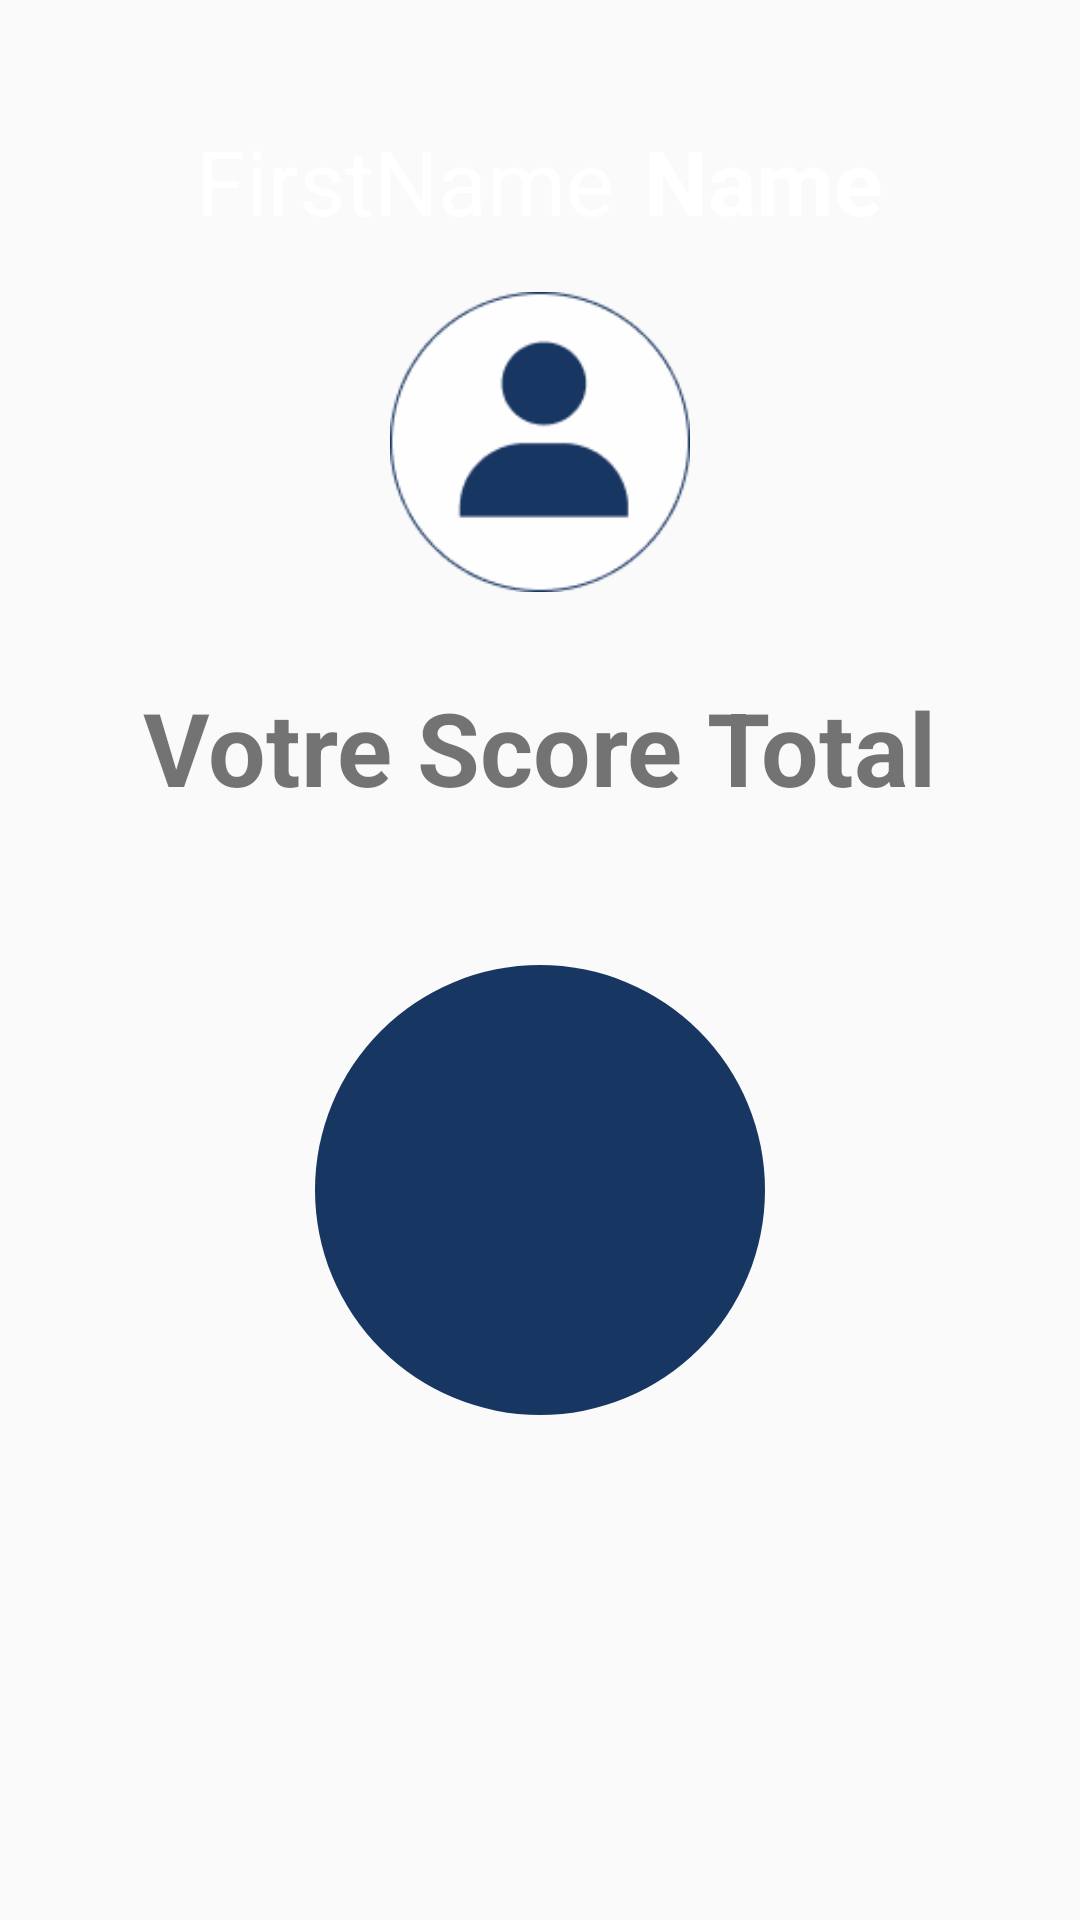

Named icons in this screenshot (1080 × 1920) and their bounding boxes, (x1, y1, x2, y2):
userprofil: (390, 292, 690, 592)
